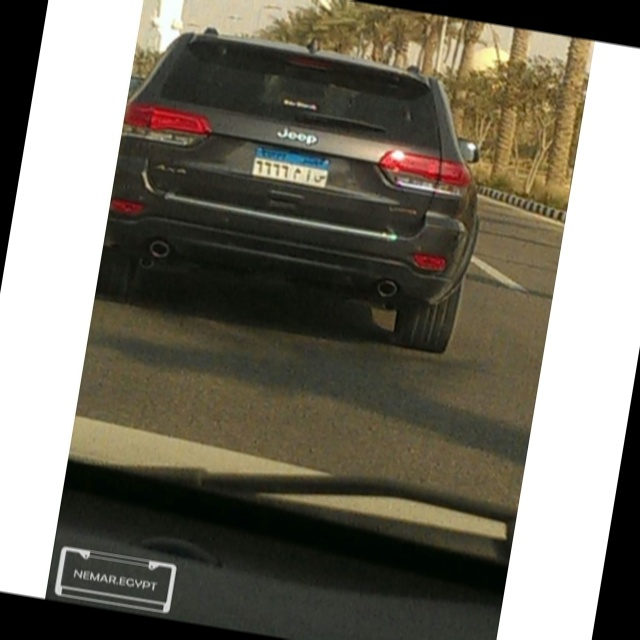License Plate: (247, 143, 335, 192)
